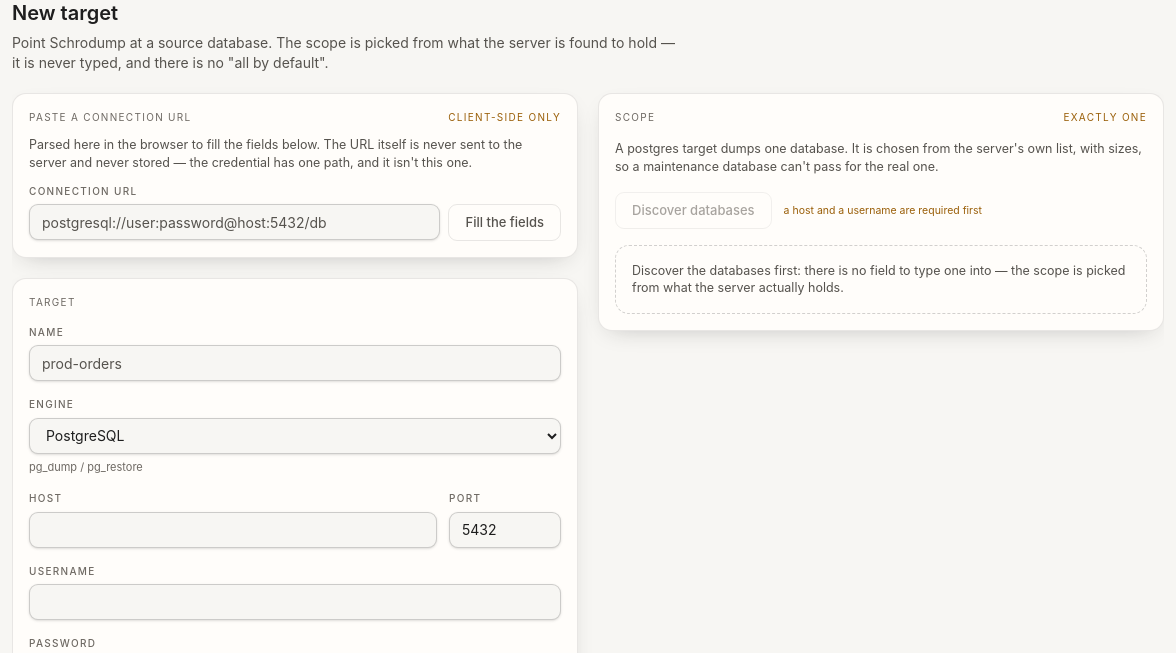
Test: TargetForm connection URL › turns TLS off only when the URL says so
The width and height of the screenshot is (1176, 653).
In the password field labelled "Connection URL": (235, 222) [29,204,440,240], type "postgres://ana:s3cret@db.internal/shop?sslmode=disable"
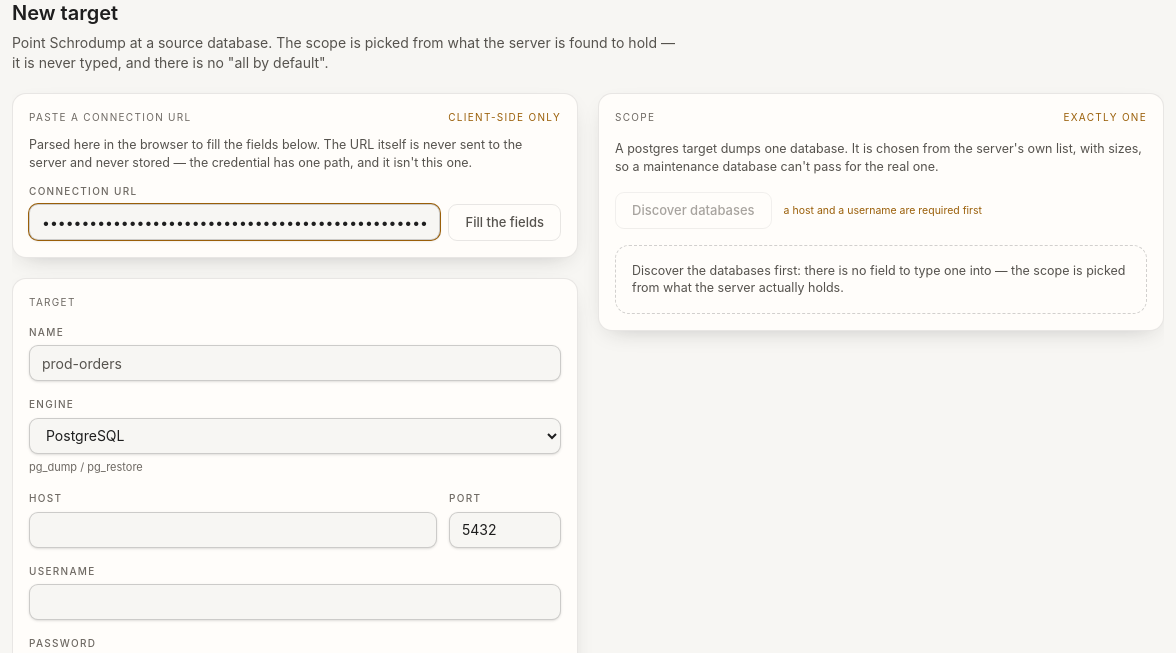
Click the button "Fill the fields": (505, 223) [448,204,561,241]
(page scrolled)
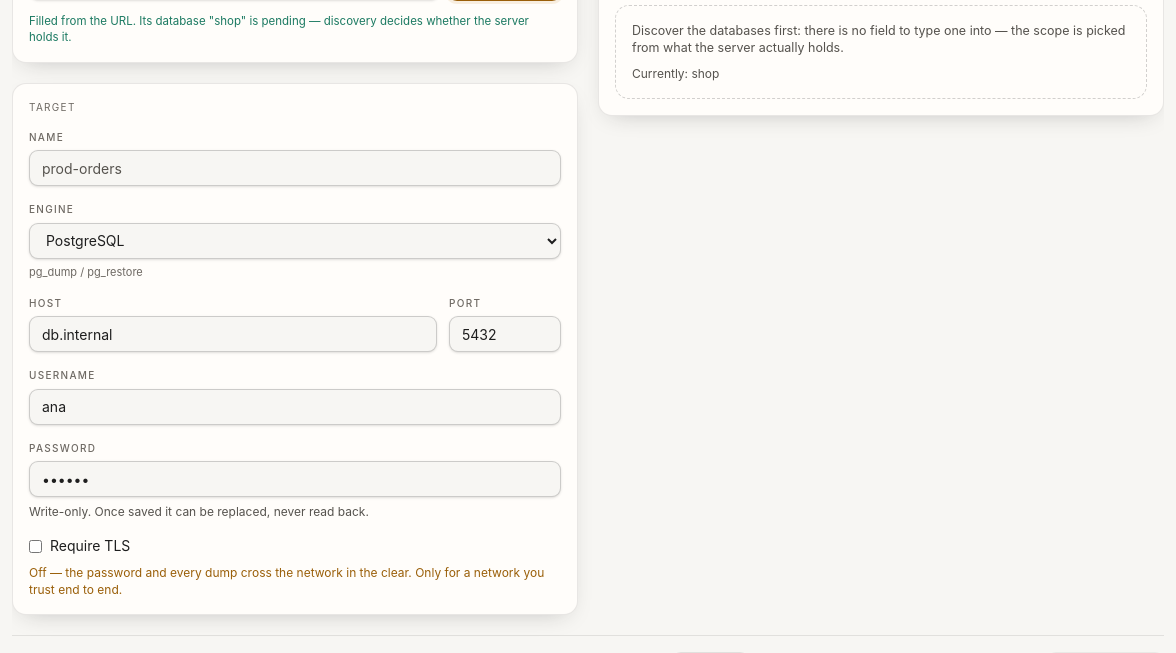
Expected: the checkbox labelled "Require TLS" is not checked, [29,540,42,553]
